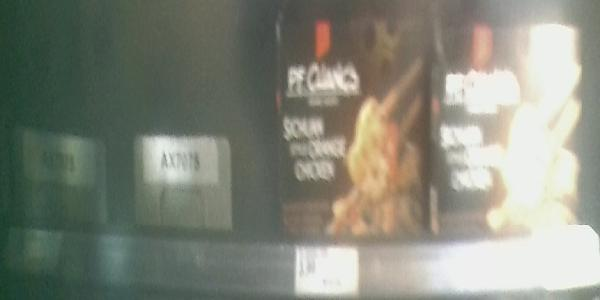pizza1: (270, 11, 434, 239), (436, 22, 581, 233)
